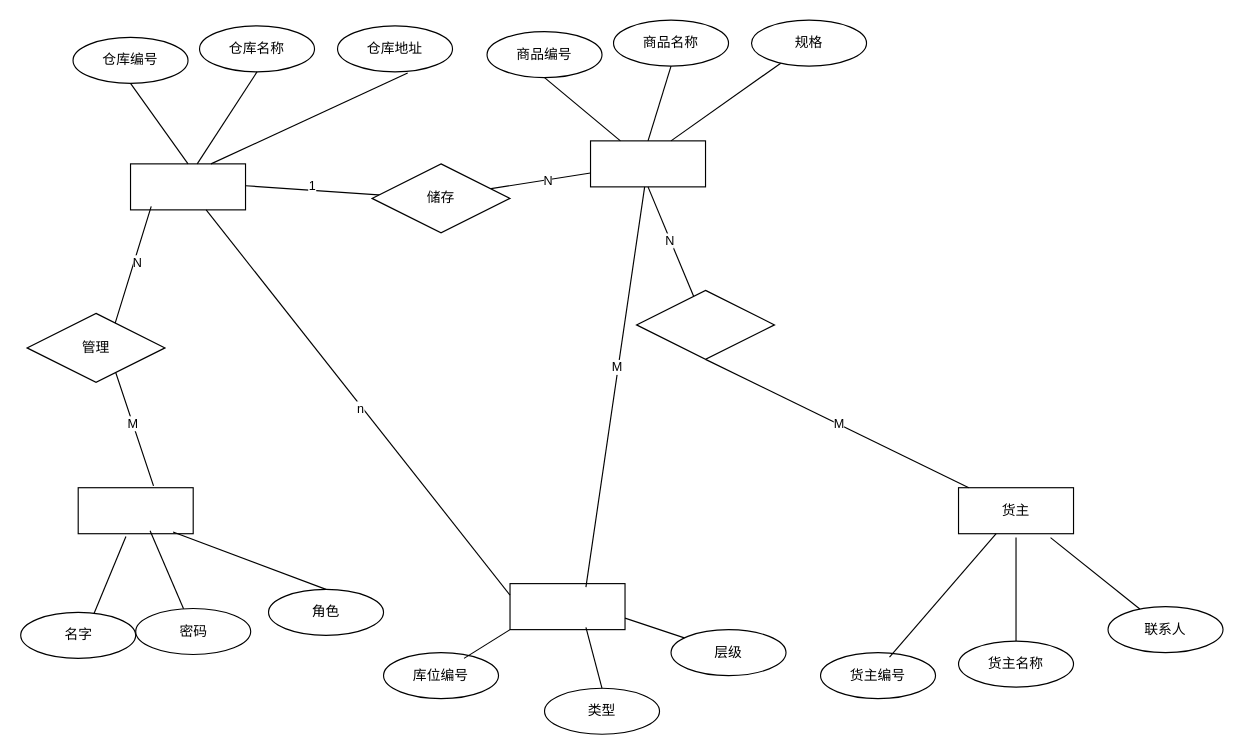
This 1243x754 diagram has some shape labels left out. Each missing label, with the centre of its shape:
"仓库" goes at point (187, 186).
"商品" goes at point (647, 163).
"库位" goes at point (567, 606).
"拥有" goes at point (705, 324).
"用户" goes at point (135, 510).
